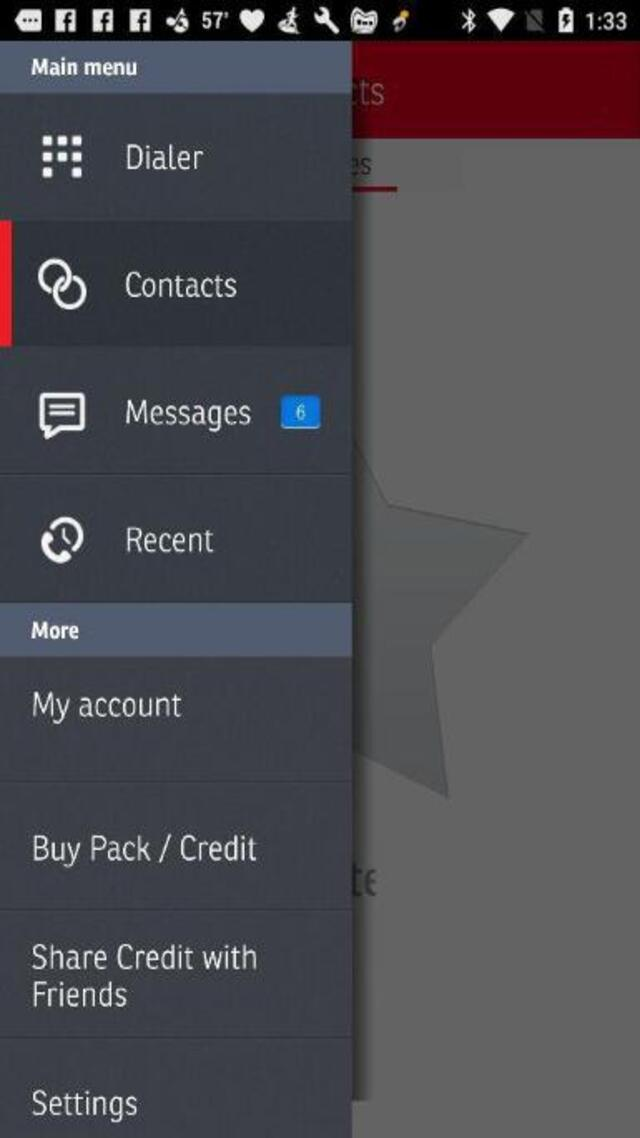Icon: (38, 390, 86, 438), (42, 135, 82, 178)
Image: (36, 258, 86, 310), (40, 516, 83, 564)
Text: (32, 833, 256, 867), (32, 942, 258, 974), (31, 689, 182, 723), (125, 398, 251, 432), (32, 1086, 138, 1122), (29, 978, 132, 1012), (126, 270, 237, 300), (124, 526, 214, 552), (30, 55, 136, 76), (125, 143, 203, 170), (31, 619, 79, 640)
